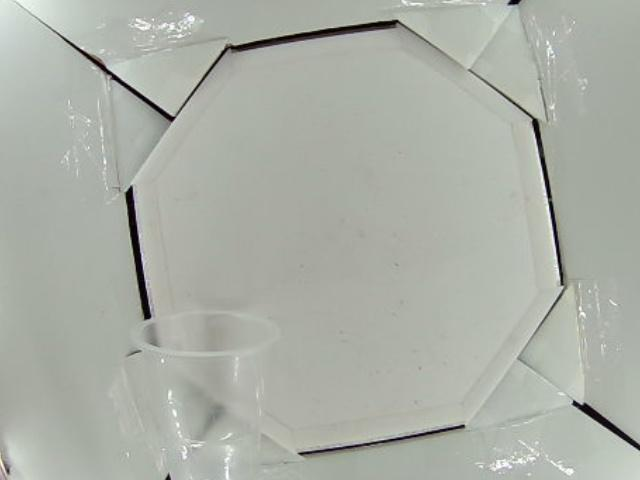Cup: (134, 308, 282, 480)
